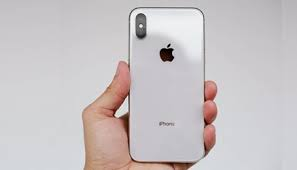iphone: (125, 3, 206, 162)
iphone10: (127, 5, 208, 164)
